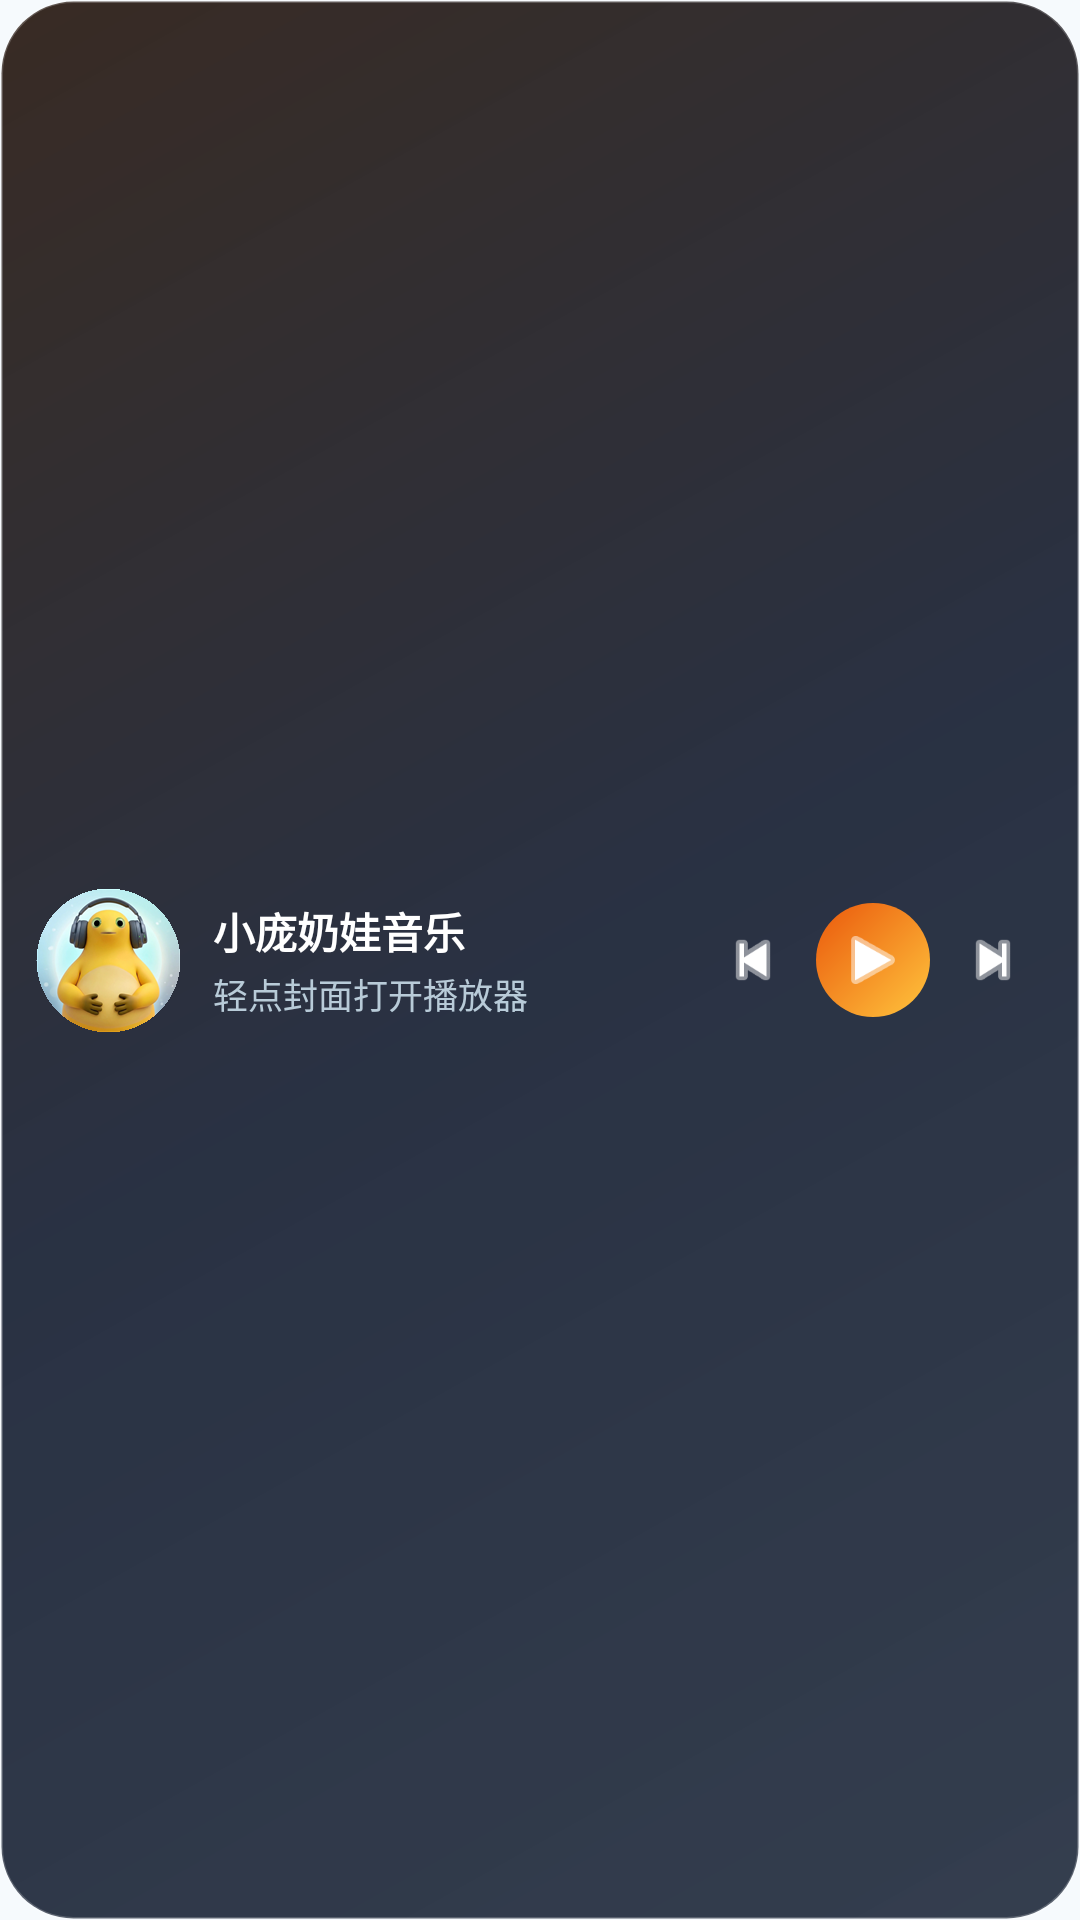

Where to tap for icons on this 1080 x 1920 app screen, as point (x, y):
上一首: point (753, 960)
下一首: point (993, 960)
播放或暂停: point (873, 960)
